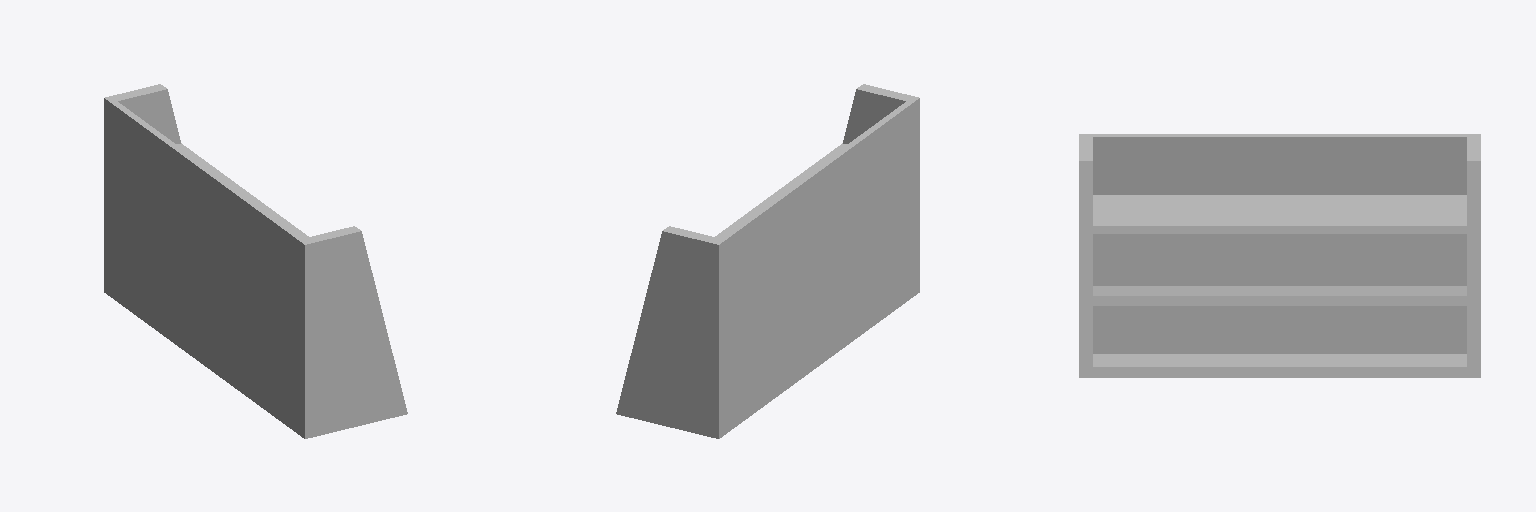
File: store_shelving_1.obj
3 renders of one model, left to right at view 1: azimuth 30°, elevation 25°; view 2: azimuth 150°, elevation 25°; view 3: azimuth 270°, elevation 25°, orthographic.
Parts seen in each view (by area): view 1: Cube.020; view 2: Cube.020; view 3: Cube.020.
Boxes of the visible parts, x1=… form: Cube.020: x1=104, y1=84, x2=407, y2=438; Cube.020: x1=616, y1=84, x2=919, y2=438; Cube.020: x1=1079, y1=134, x2=1480, y2=377.
Size of the model in its own units: 3.63 by 6.54 by 12.26.